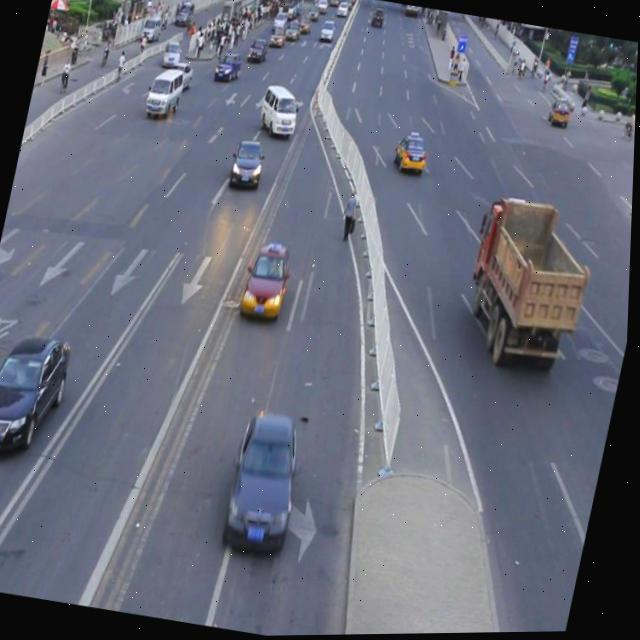bus: (455, 193, 601, 377)
car: (221, 405, 315, 558), (0, 324, 78, 461), (238, 239, 296, 325), (228, 136, 268, 192), (391, 131, 431, 176)
truck: (256, 81, 304, 141), (144, 63, 186, 123)
